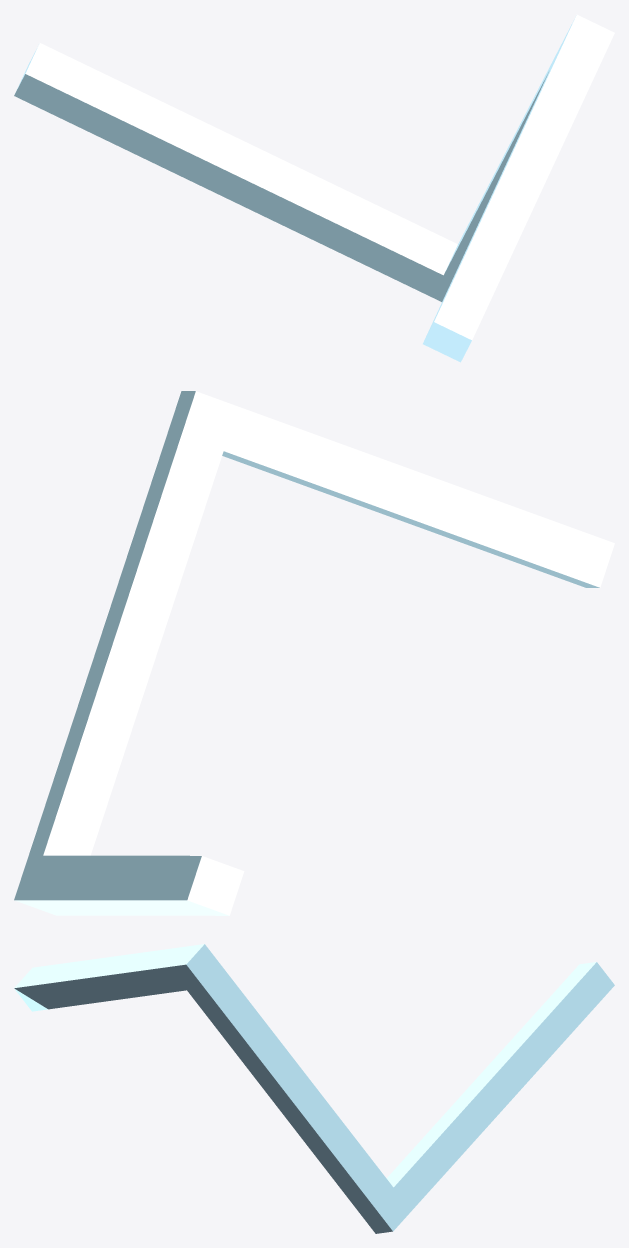
The model's file is triangle.gltf.
3 views of the same model, one above another, from view 1: azimuth 30°, elevation 25°; view 2: azimuth 150°, elevation 25°; view 3: azimuth 270°, elevation 25° (orthographic). The views are drawn at different scales.
Visible parts, largest first — view 1: Triangle; view 2: Triangle; view 3: Triangle.
Boxes of the visible parts, <box> form: Triangle: <box>14,14,614,362</box>; Triangle: <box>14,391,614,915</box>; Triangle: <box>14,944,614,1233</box>.
Bounding box in the file's own units: 4.23 × 4.72 × 8.96.
